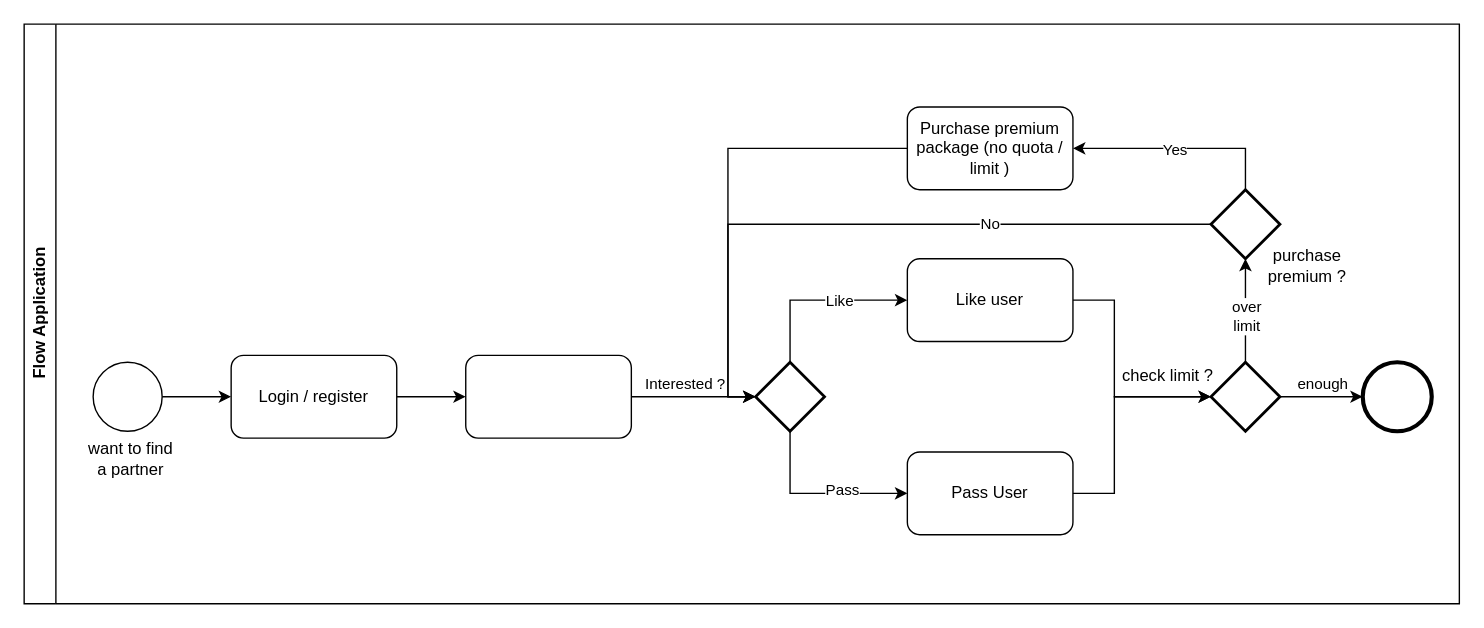
Some shapes in this 1484 by 628 pixel diagram are drawn without their labels. The centre of each missing label's shape, as x and y in pixels:
End: pixel 1396 396
Get Random User: pixel 547 396
